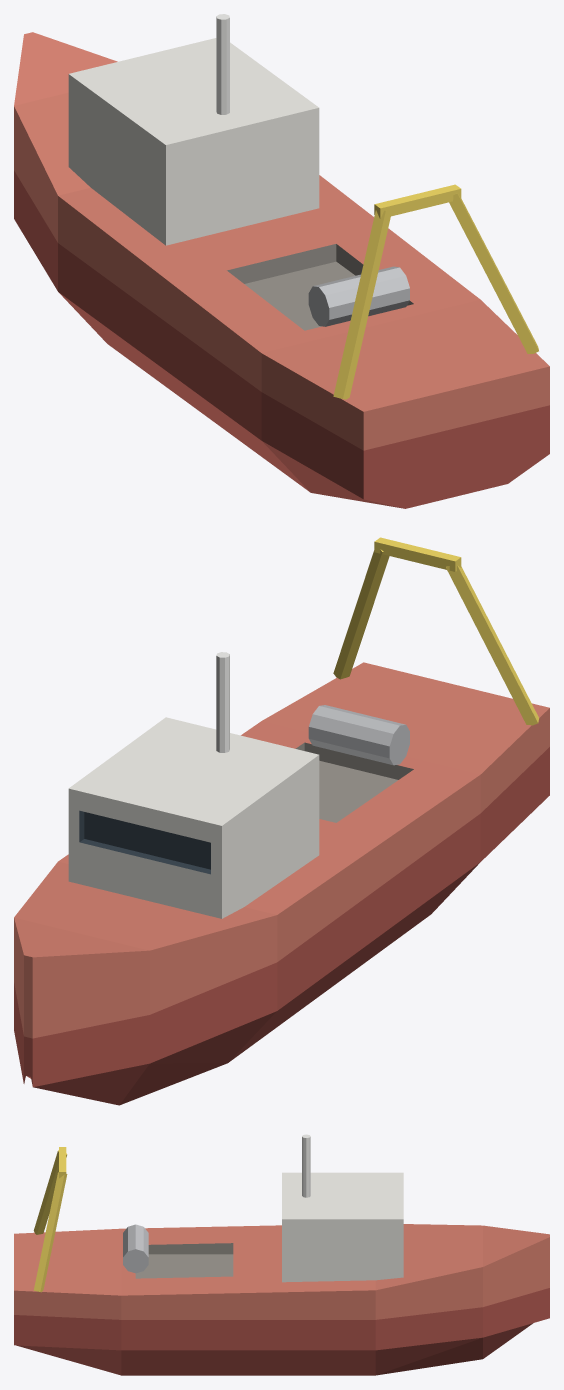
The model's file is fishing_boat.glb.
The picture shows the model from 3 angles, top to bottom: view 1: azimuth 30°, elevation 25°; view 2: azimuth 150°, elevation 25°; view 3: azimuth 270°, elevation 25°; orthographic projection. The views are drawn at different scales.
Visible parts, largest first — view 1: fishing_boat; view 2: fishing_boat; view 3: fishing_boat.
Part boxes in pixels (x1=…): fishing_boat: x1=14, y1=14, x2=549, y2=508; fishing_boat: x1=14, y1=537, x2=549, y2=1105; fishing_boat: x1=14, y1=1134, x2=549, y2=1375.
Bounding box in the file's own units: 6.5 × 10 × 22.
